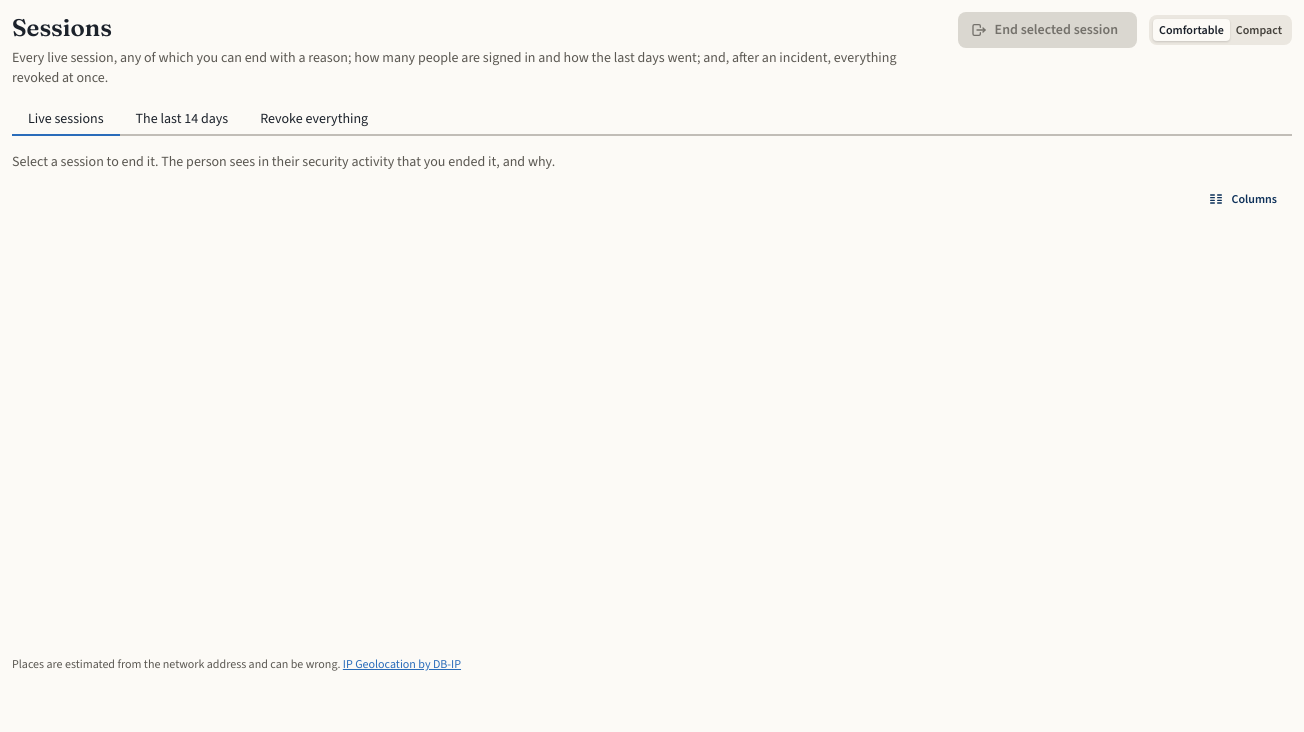
Test case: the console's sessions page › shows the people signed in now and a summary of each day, newest first [TF-022 AC5, ADR-0049]
The width and height of the screenshot is (1304, 732).
Check: the heading "Sessions" is shown, box [12,13,112,42]
Click the tab "The last 14 days": (182, 120) [120,104,244,136]
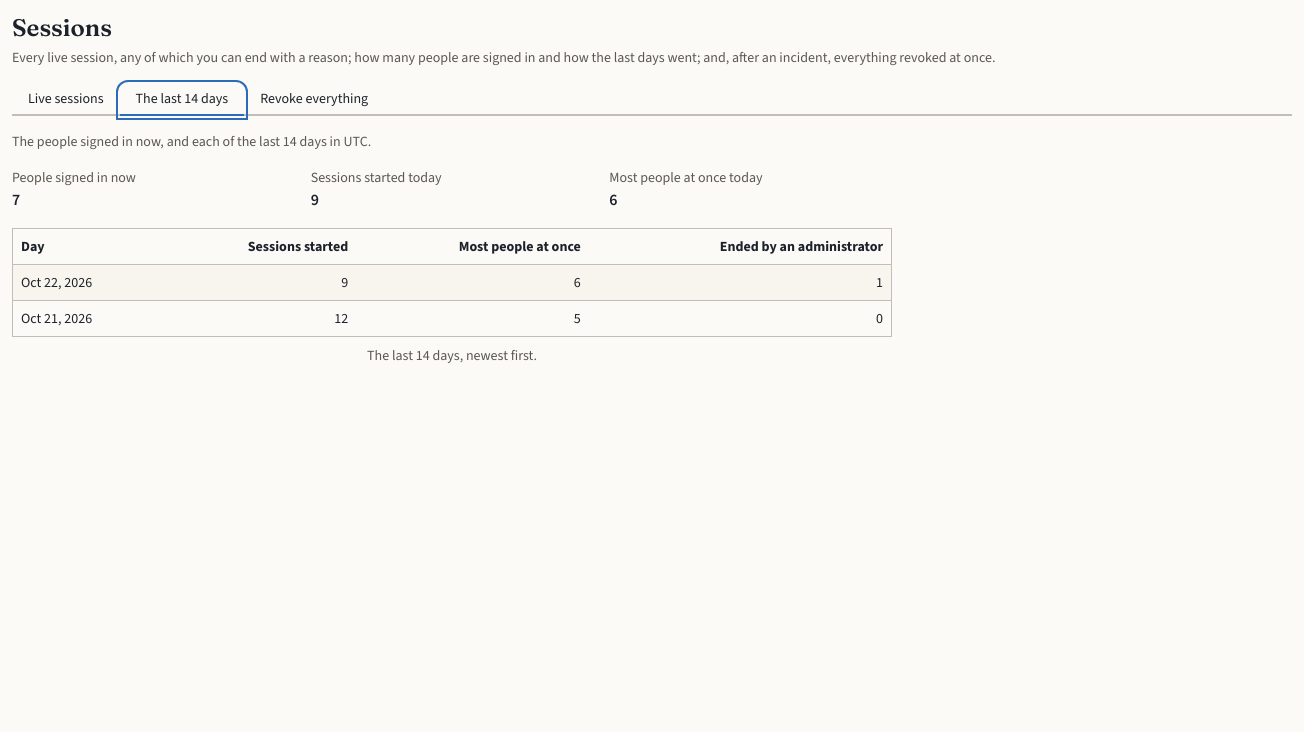
Check: the text "People signed in now" is shown, box [12,168,136,187]
Check: the text "7" is shown, box [12,189,20,210]
